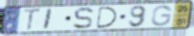9: (128, 5, 148, 28)
D: (96, 6, 119, 30)
G: (150, 4, 173, 27)
I: (42, 7, 55, 31)
S: (72, 6, 95, 30)
T: (23, 7, 43, 32)
